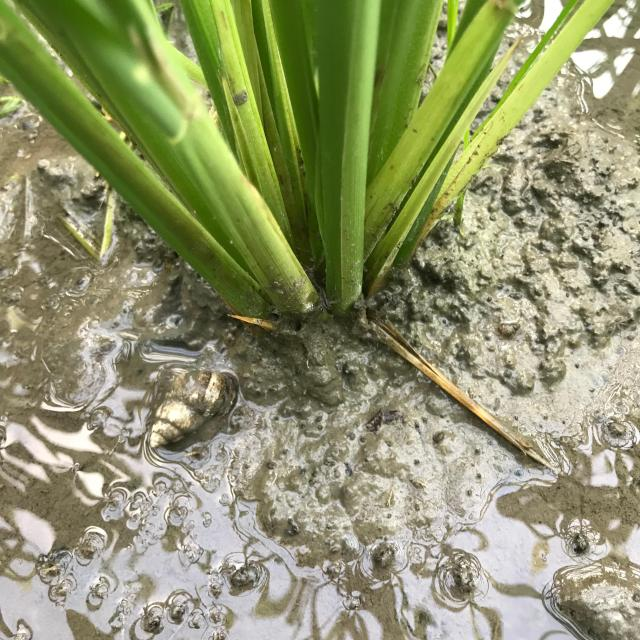rice bug -hama padi-: (83, 346, 275, 458)
